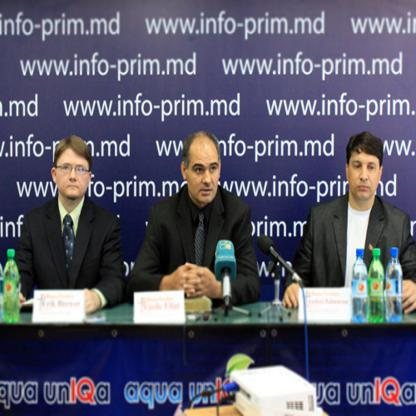face: (187, 144, 220, 205), (349, 154, 380, 203), (58, 152, 92, 196)
